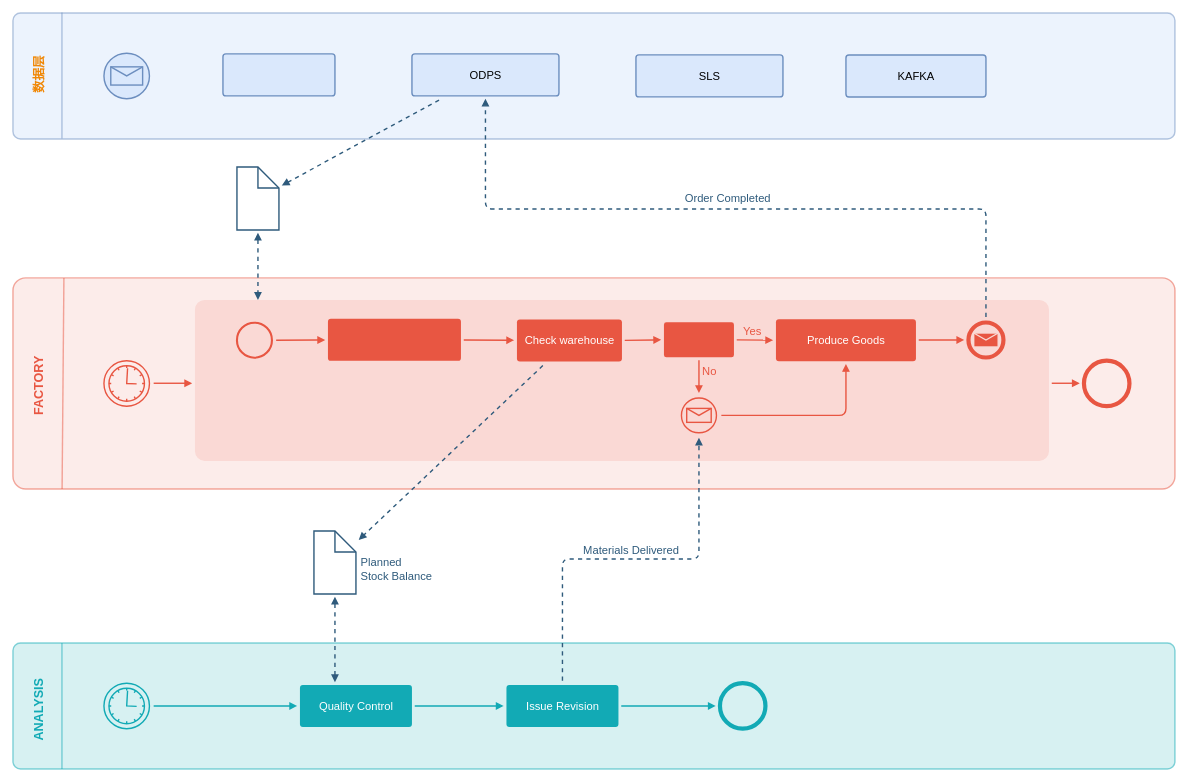
This 1187x783 diagram has some shape labels left out. Each missing label, with the centre of its shape:
"Available?" belongs at point 699,339.
"Compose Specification" belongs at point 394,339.
"Order list" belongs at point 257,198.
"RDS" belongs at point 278,74.
